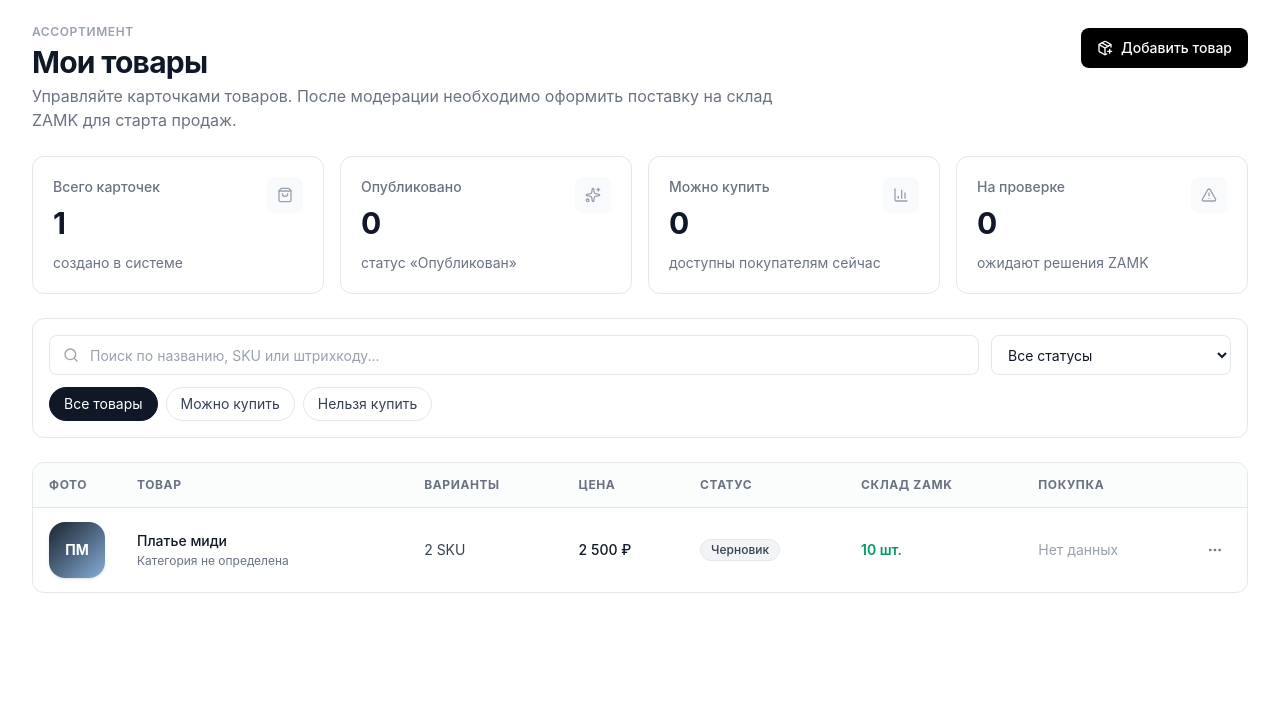
SELLER ASSORTMENT.1C2 - Lifecycle Actions UI & Safety Matrix › Delete Draft Flow & Invariants › L: successful delete removes row and closes active drawer
// Open drawer by clicking row
Click the text "Платье миди" at (182, 540), box left=137, top=532, right=227, bottom=549
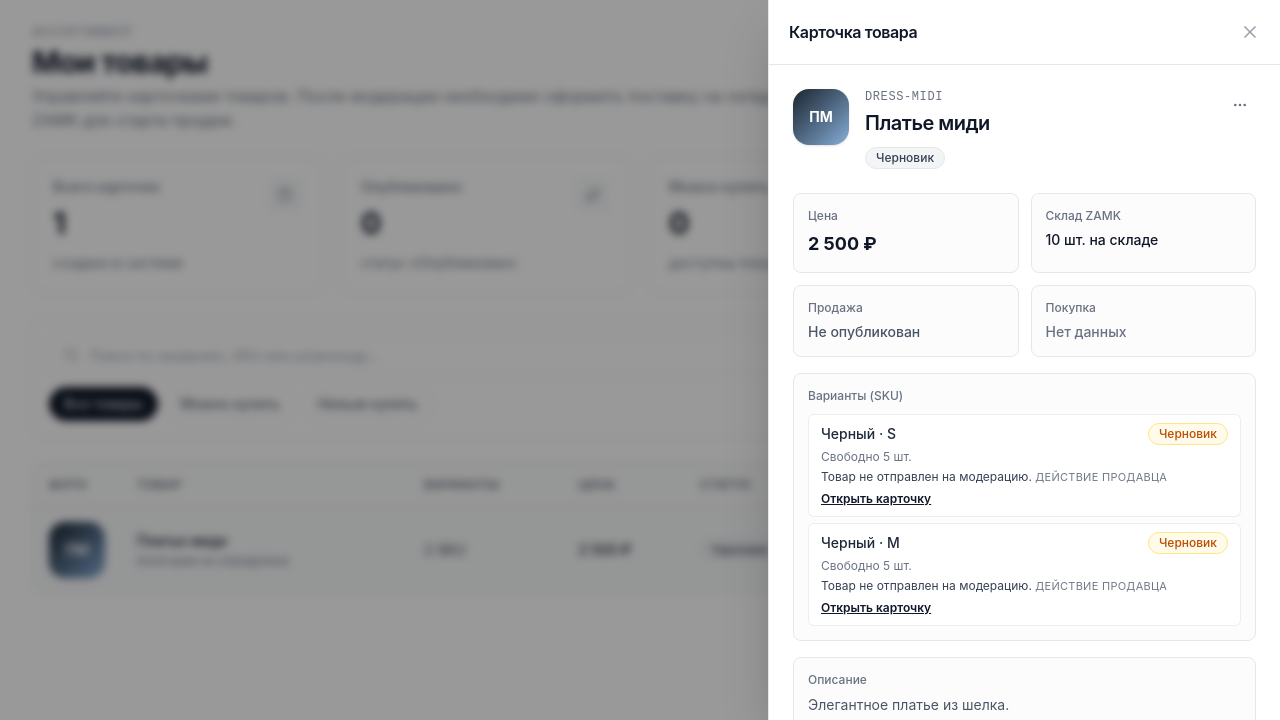
Check: the element with test id "seller-product-drawer" is shown
// Delete from drawer action menu
Click the button with test id "drawer-actions-menu-btn" at (1240, 105), box left=1224, top=89, right=1256, bottom=121
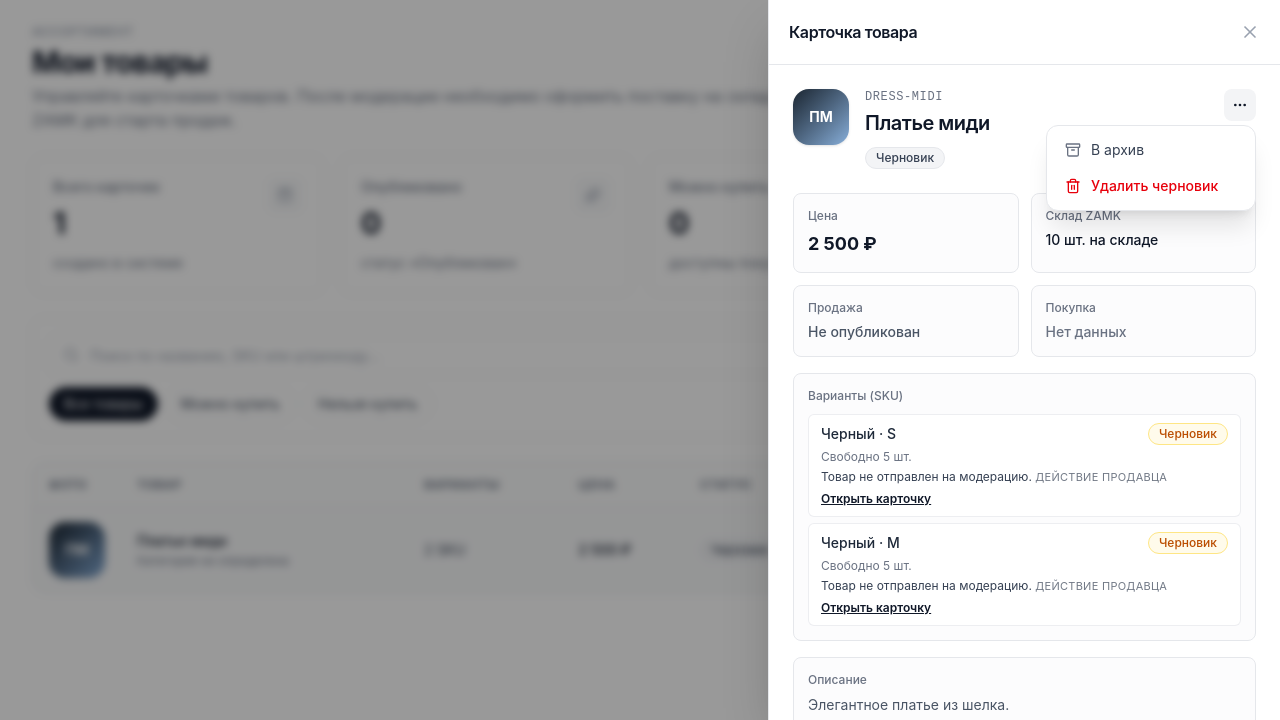
Click the menu item "Удалить черновик" at (1151, 186), box left=1053, top=168, right=1249, bottom=204
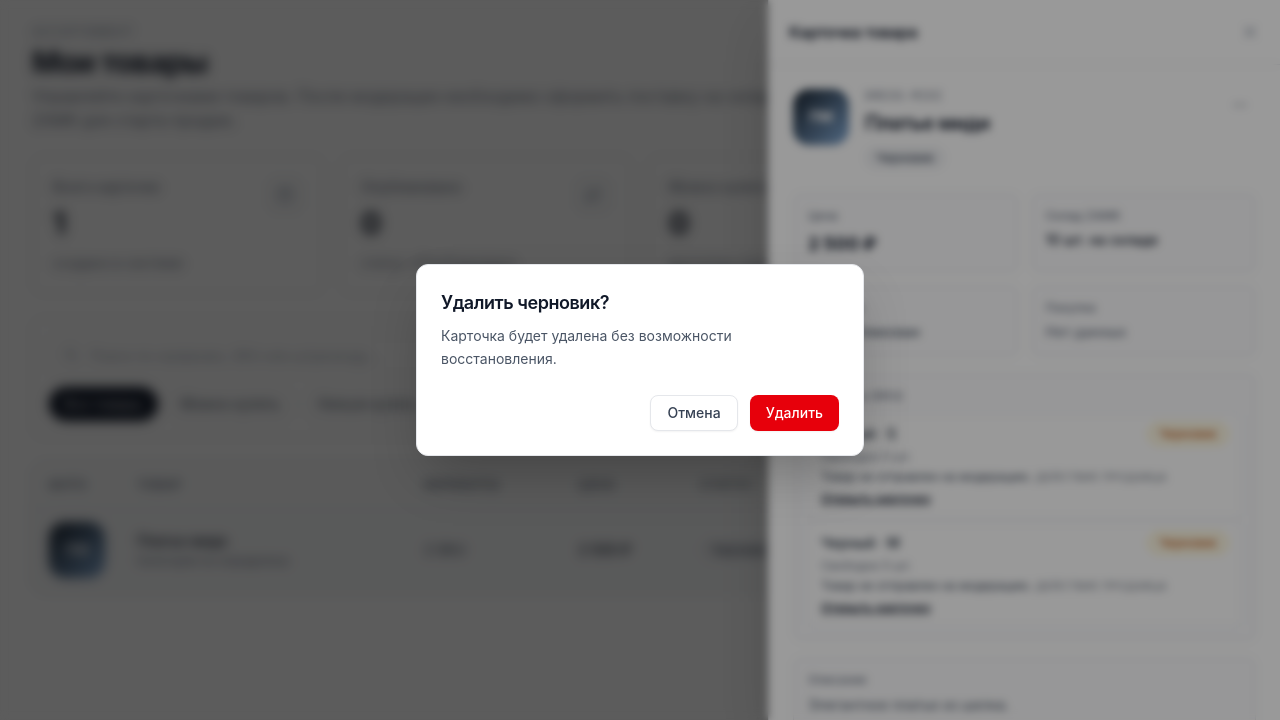
Check: the button with test id "confirm-delete-btn" is shown
Click the button with test id "confirm-delete-btn" at (794, 413), box left=750, top=395, right=839, bottom=431
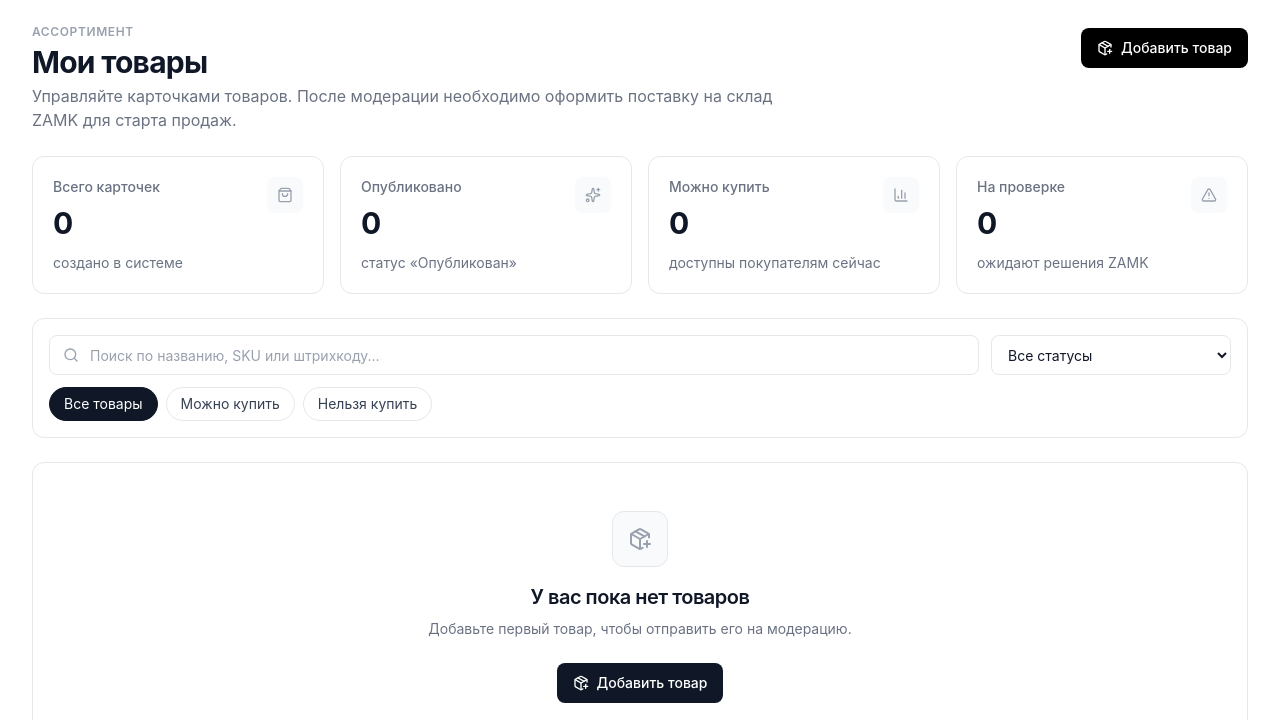
Check: the text "Платье миди" is gone
Check: the element with test id "seller-product-drawer" is gone
